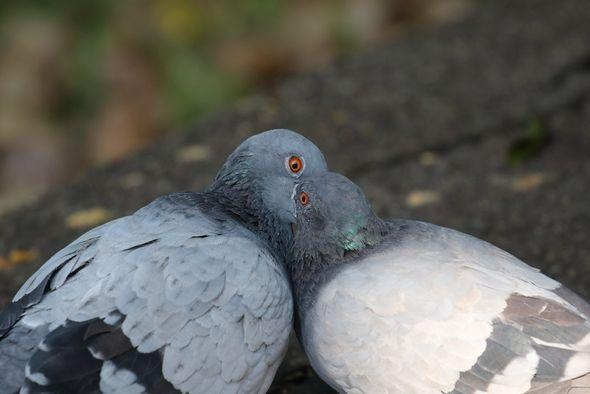Flying Rat: (1, 136, 313, 394), (295, 177, 590, 394)
